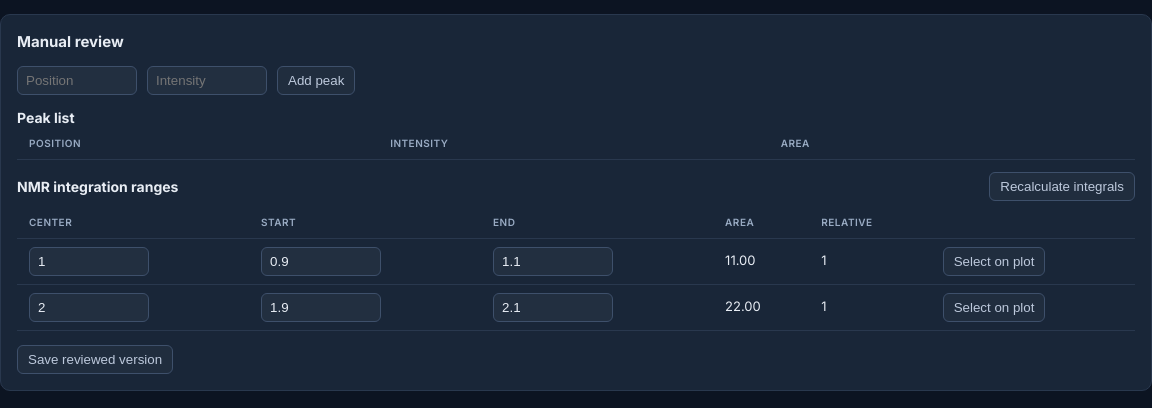
Test case: manual recalculation ownership › announces NMR recalculation failures and allows retry
Click the button "Recalculate integrals". click: (1062, 186)
box: [989, 172, 1135, 200]
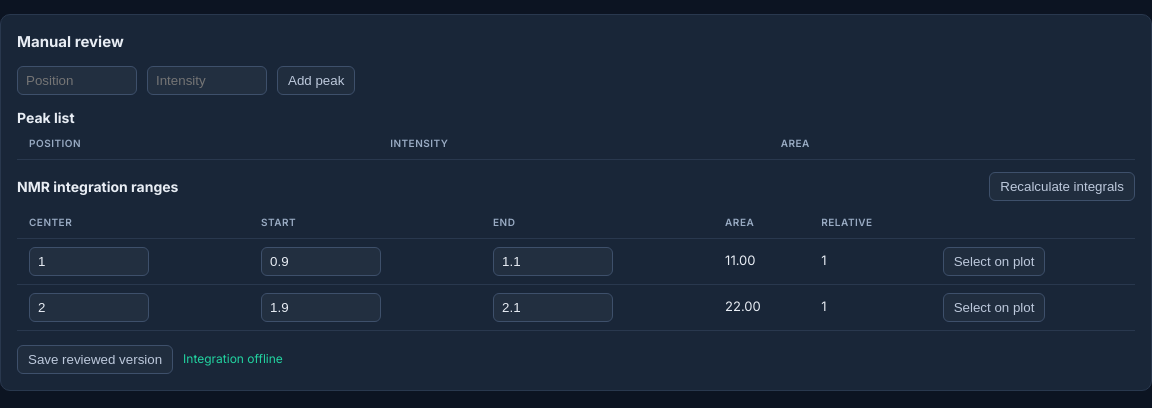
Expected: the message reads "Integration offline", [183, 351, 283, 366]
Click the button "Recalculate integrals". click: (1062, 186)
box: [989, 172, 1135, 200]
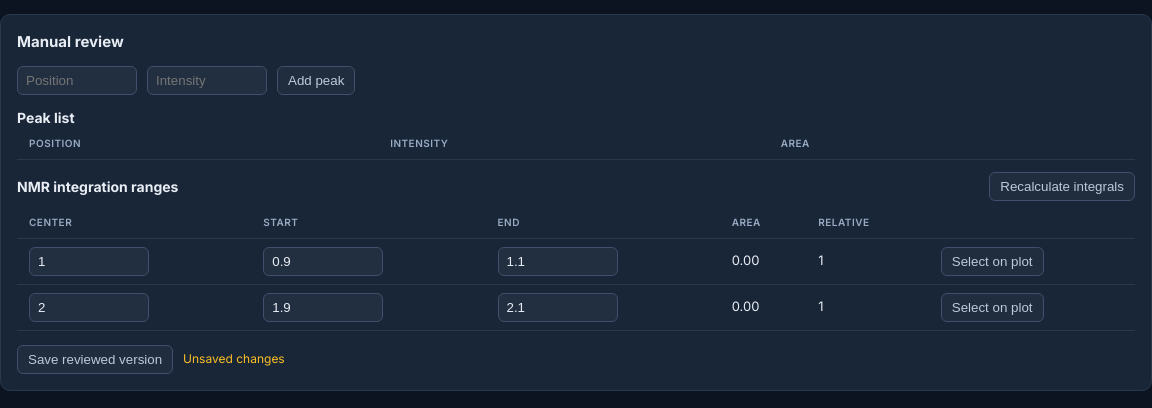
Expected: the text "Integration offline" is gone
